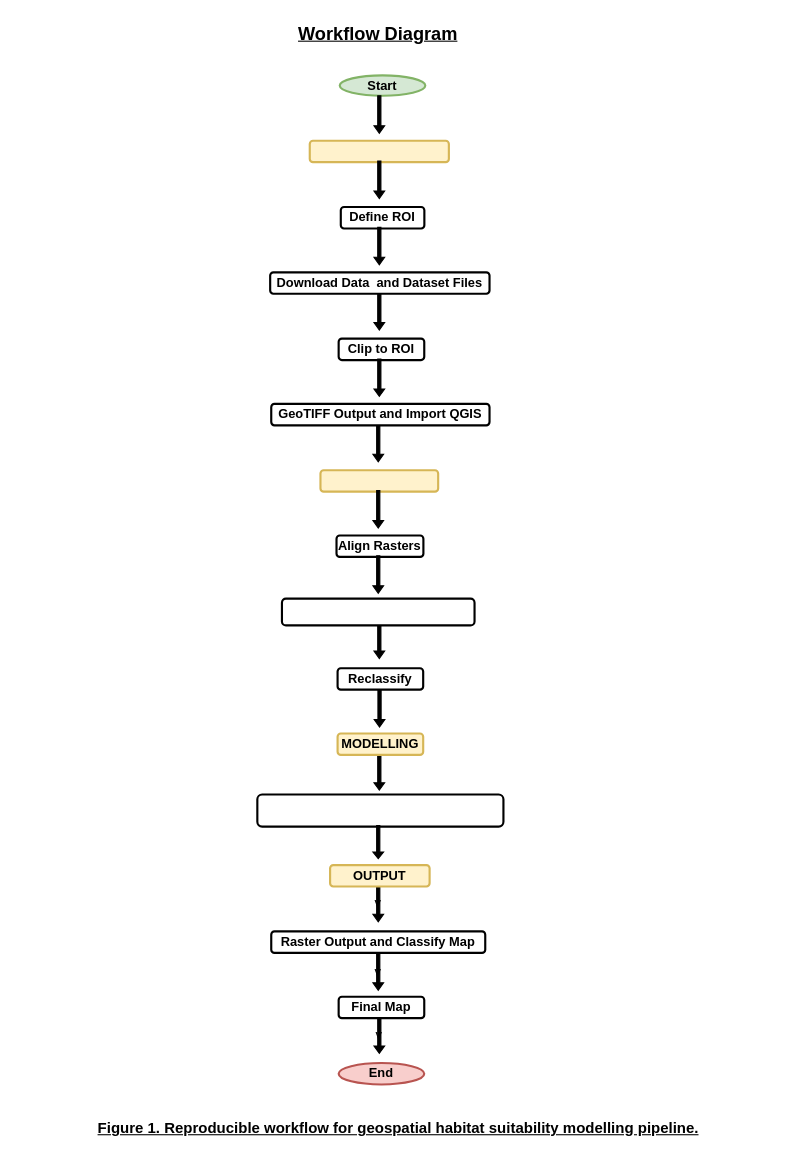
Image size: 796x1162. Some labels were removed from this diagram. Each missing label, with the centre of its shape:
"DATA COLLECTION" goes at point (378, 151).
"PREPROCESSING" goes at point (379, 480).
"Raster Alignment Verification" goes at point (377, 611).
"Weight Assignment and Weighted Overlay" goes at point (380, 810).
